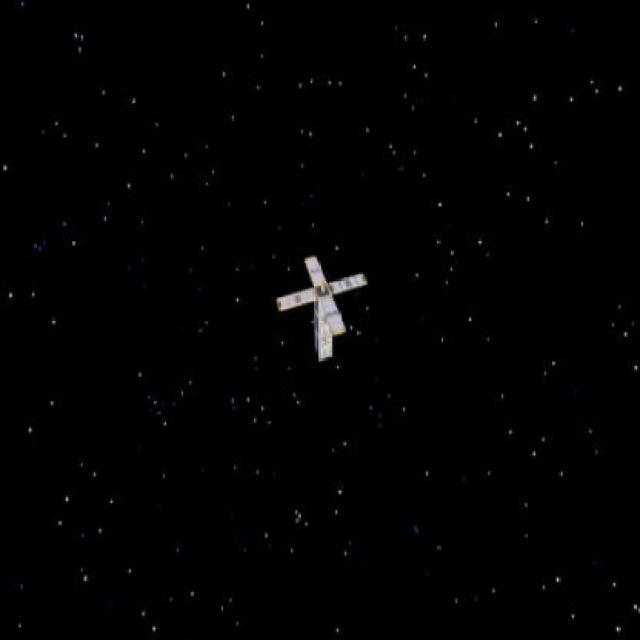medium_debris: (267, 240, 371, 370)
